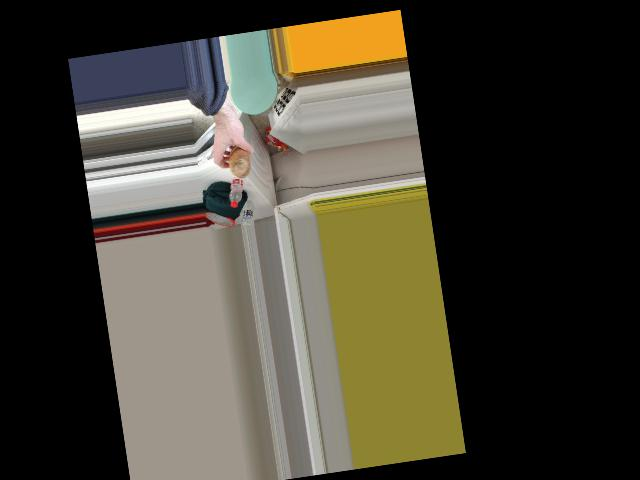sweet_potato: (220, 139, 255, 179)
